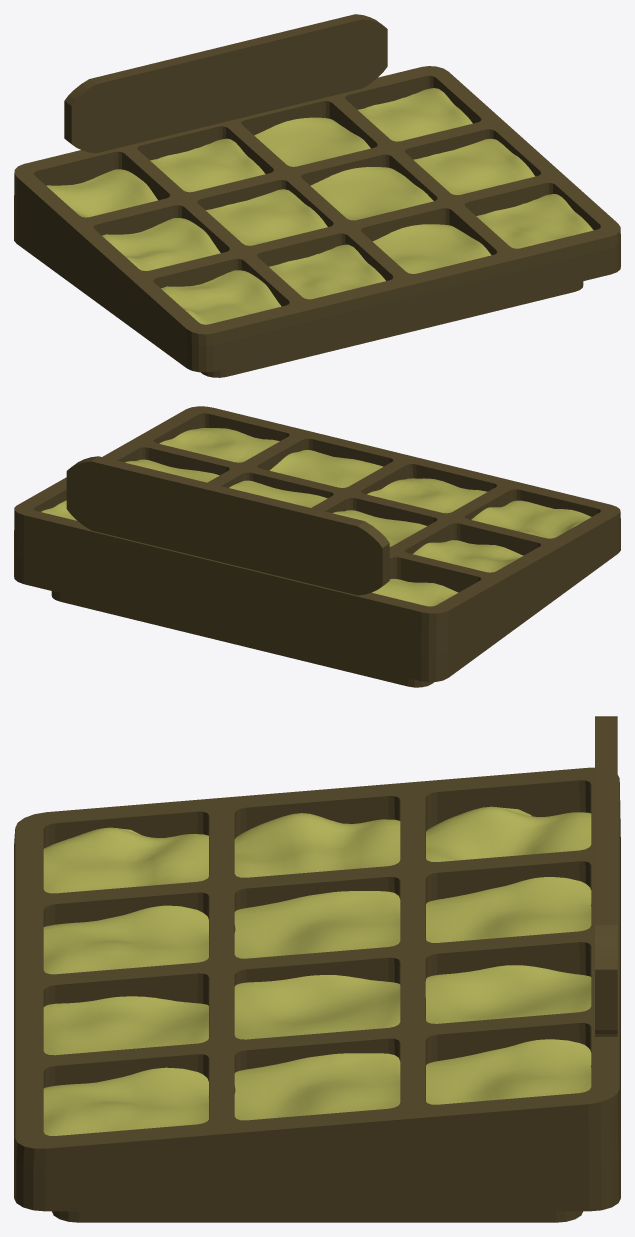
The model's file is ejder-devekusu_tezgah_4.fbx.
3 views of the same model, one above another, from view 1: azimuth 30°, elevation 25°; view 2: azimuth 150°, elevation 25°; view 3: azimuth 270°, elevation 25° (orthographic). The views are drawn at different scales.
Parts seen in each view (by area): view 1: Plane.027, Plane.029, Cube.011, Plane.028; view 2: Plane.027, Cube.011, Plane.029, Plane.028; view 3: Plane.027, Plane.029, Cube.011, Plane.028.
Boxes of the visible parts, <box> form: Plane.027: <box>14,66,620,372</box>; Plane.029: <box>46,88,593,324</box>; Cube.011: <box>64,14,387,153</box>; Plane.028: <box>201,281,583,377</box>; Plane.027: <box>14,406,620,682</box>; Cube.011: <box>66,456,389,595</box>; Plane.029: <box>41,428,591,606</box>; Plane.028: <box>51,591,434,687</box>; Plane.027: <box>14,767,620,1211</box>; Plane.029: <box>43,806,591,1135</box>; Cube.011: <box>595,716,617,1036</box>; Plane.028: <box>52,1211,582,1222</box>.
Size of the model in its own units: 571 by 200 by 435.
